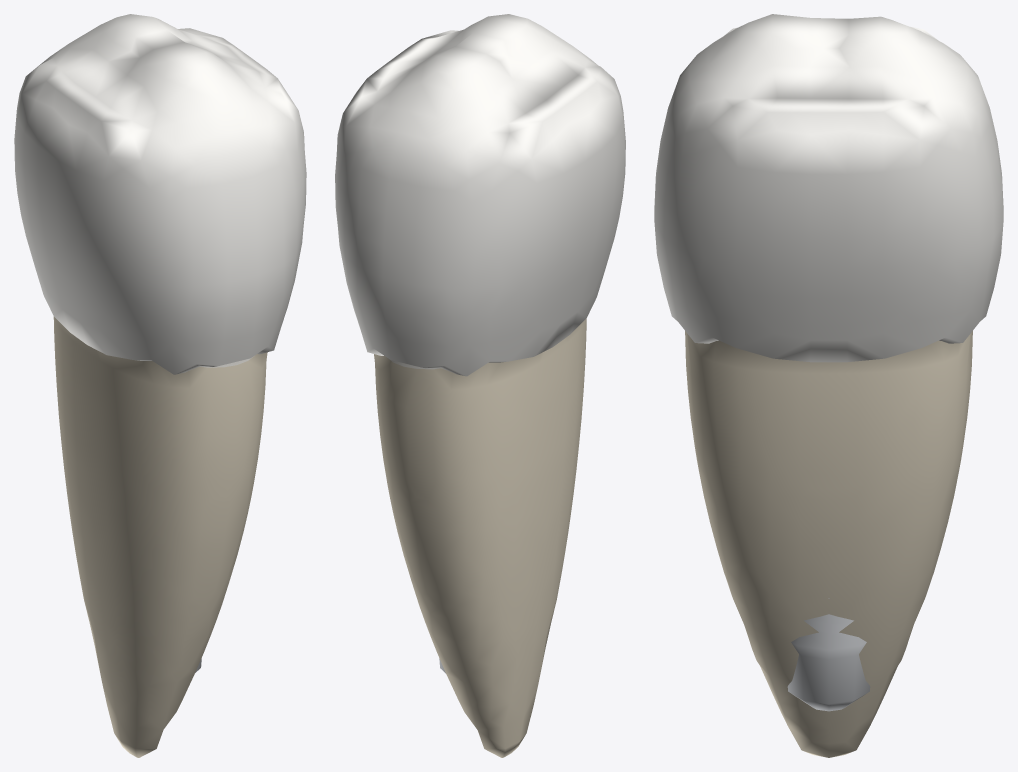
3 renders of one model, left to right at view 1: azimuth 30°, elevation 25°; view 2: azimuth 150°, elevation 25°; view 3: azimuth 270°, elevation 25°, orthographic. The views are drawn at different scales.
Parts seen in each view (by area): view 1: crown, root; view 2: crown, root; view 3: crown, root, implant.
Part boxes in pixels (<box>): crown: <box>14,14,306,374</box>; root: <box>53,316,267,757</box>; crown: <box>335,14,625,376</box>; root: <box>374,318,586,757</box>; crown: <box>654,14,1003,362</box>; root: <box>685,331,972,757</box>; implant: <box>787,598,870,711</box>.
Bounding box in the file's own units: 7.66 × 22.81 × 9.66.
